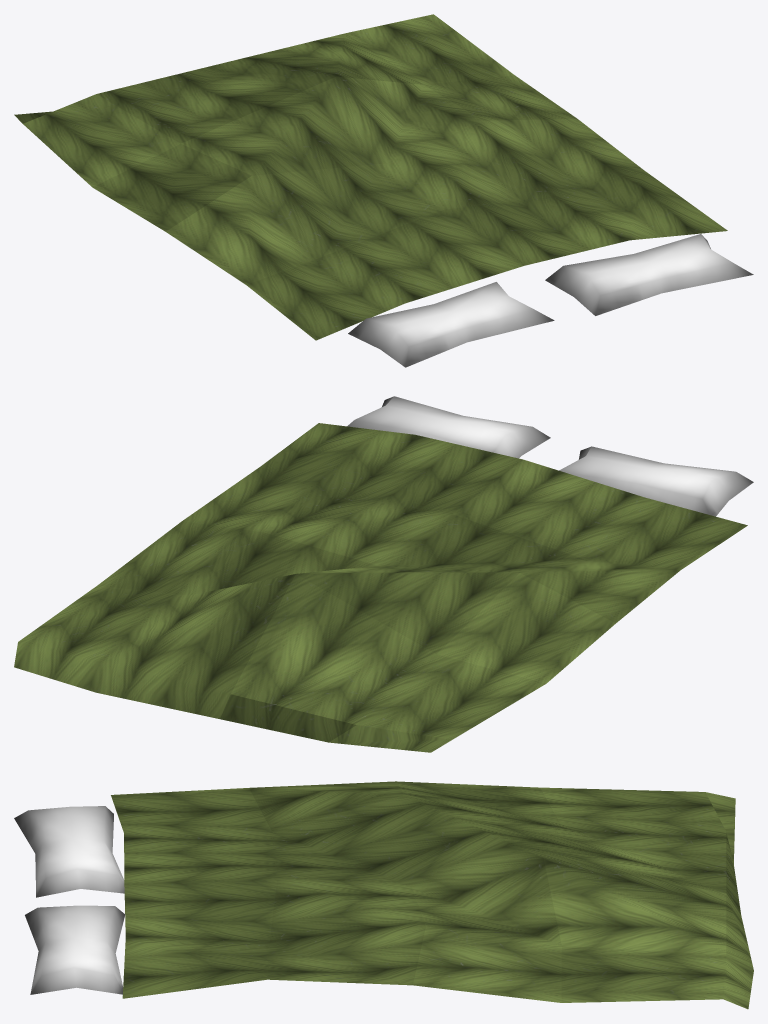
Rendered from BedClothes.fbx.
3 views of the same model, one above another, from view 1: azimuth 30°, elevation 25°; view 2: azimuth 150°, elevation 25°; view 3: azimuth 270°, elevation 25° (orthographic).
Visible parts, largest first — view 1: Blanket, Pillow, Pillow.001; view 2: Blanket, Pillow.001, Pillow; view 3: Blanket, Pillow, Pillow.001.
Part boxes in pixels (x1,y1,x2,y2): Blanket: [14, 14, 727, 340]; Pillow: [545, 234, 753, 315]; Pillow.001: [348, 282, 554, 367]; Blanket: [14, 423, 747, 752]; Pillow.001: [559, 446, 753, 516]; Pillow: [347, 396, 550, 458]; Blanket: [111, 781, 753, 1009]; Pillow: [25, 905, 125, 994]; Pillow.001: [14, 806, 124, 897].
Size of the model in its own units: 174 by 25.8 by 253.
Materials: 2 (2 with a texture image).
